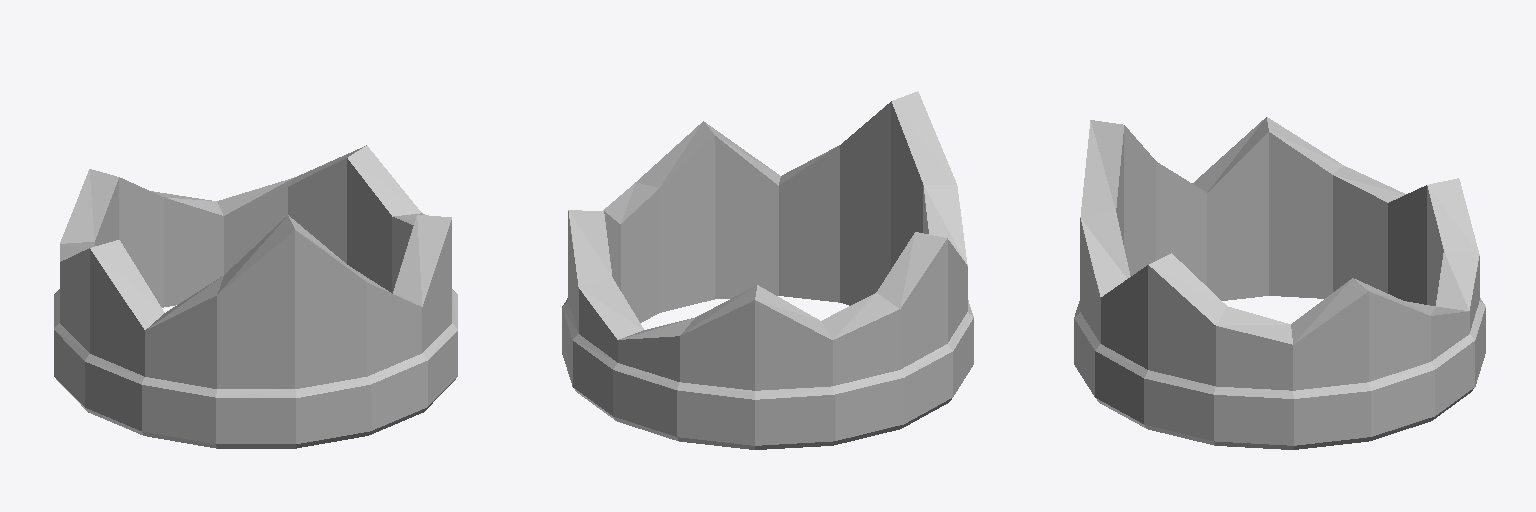
File: Crown.obj
3 views of the same model, side by side, from view 1: azimuth 30°, elevation 25°; view 2: azimuth 150°, elevation 25°; view 3: azimuth 270°, elevation 25° (orthographic).
Parts seen in each view (by area): view 1: Cylinder.006; view 2: Cylinder.006; view 3: Cylinder.006.
Part boxes in pixels (x1,y1,x2,y2): Cylinder.006: (54,145,457,448); Cylinder.006: (562,91,973,449); Cylinder.006: (1074,117,1485,449).
Size of the model in its own units: 0.3222 by 0.1884 by 0.3222.